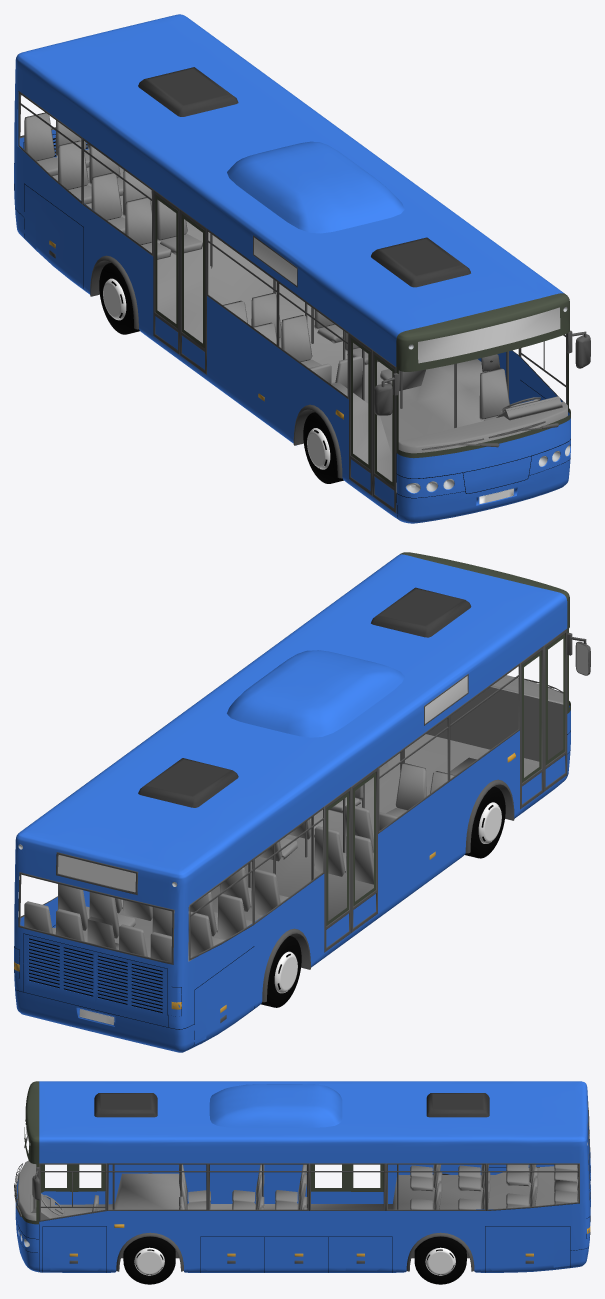
Rendered from optimized-bus.glb.
3 views of the same model, one above another, from view 1: azimuth 30°, elevation 25°; view 2: azimuth 150°, elevation 25°; view 3: azimuth 270°, elevation 25° (orthographic). The views are drawn at different scales.
Parts seen in each view (by area): view 1: 3DSMeshMatrix.002, 3DSMeshMatrix.008, 3DSMeshMatrix.011, 3DSMeshMatrix.006, 3DSMeshMatrix.003, 3DSMeshMatrix.013, 3DSMeshMatrix.015, 3DSMeshMatrix.016, 3DSMeshMatrix.001, 3DSMeshMatrix.004; view 2: 3DSMeshMatrix.002, 3DSMeshMatrix.008, 3DSMeshMatrix.011, 3DSMeshMatrix.003, 3DSMeshMatrix.006, 3DSMeshMatrix.001, 3DSMeshMatrix.013, 3DSMeshMatrix.015, 3DSMeshMatrix.016; view 3: 3DSMeshMatrix.002, 3DSMeshMatrix.008, 3DSMeshMatrix.011, 3DSMeshMatrix.003, 3DSMeshMatrix.015, 3DSMeshMatrix.006, 3DSMeshMatrix.016, 3DSMeshMatrix.001.
Boxes of the visible parts, <box> form: 3DSMeshMatrix.002: <box>14,14,570,523</box>; 3DSMeshMatrix.008: <box>24,112,567,492</box>; 3DSMeshMatrix.011: <box>18,91,590,513</box>; 3DSMeshMatrix.006: <box>155,194,570,486</box>; 3DSMeshMatrix.003: <box>138,67,470,287</box>; 3DSMeshMatrix.013: <box>254,237,560,363</box>; 3DSMeshMatrix.015: <box>99,263,343,483</box>; 3DSMeshMatrix.016: <box>103,278,330,469</box>; 3DSMeshMatrix.001: <box>14,134,570,520</box>; 3DSMeshMatrix.004: <box>406,307,569,504</box>; 3DSMeshMatrix.002: <box>14,554,570,1052</box>; 3DSMeshMatrix.008: <box>24,675,563,962</box>; 3DSMeshMatrix.011: <box>18,629,590,1022</box>; 3DSMeshMatrix.003: <box>138,587,471,807</box>; 3DSMeshMatrix.006: <box>326,552,570,925</box>; 3DSMeshMatrix.001: <box>14,730,570,1045</box>; 3DSMeshMatrix.013: <box>58,676,467,892</box>; 3DSMeshMatrix.015: <box>261,786,505,1007</box>; 3DSMeshMatrix.016: <box>274,802,501,993</box>; 3DSMeshMatrix.002: <box>15,1081,590,1272</box>; 3DSMeshMatrix.008: <box>18,1160,578,1220</box>; 3DSMeshMatrix.011: <box>14,1100,590,1271</box>; 3DSMeshMatrix.003: <box>94,1093,489,1117</box>; 3DSMeshMatrix.015: <box>123,1236,466,1284</box>; 3DSMeshMatrix.006: <box>16,1081,383,1224</box>; 3DSMeshMatrix.016: <box>134,1247,455,1275</box>; 3DSMeshMatrix.001: <box>17,1167,590,1274</box>.
Size of the model in its own units: 3.15 by 3.14 by 10.25.
